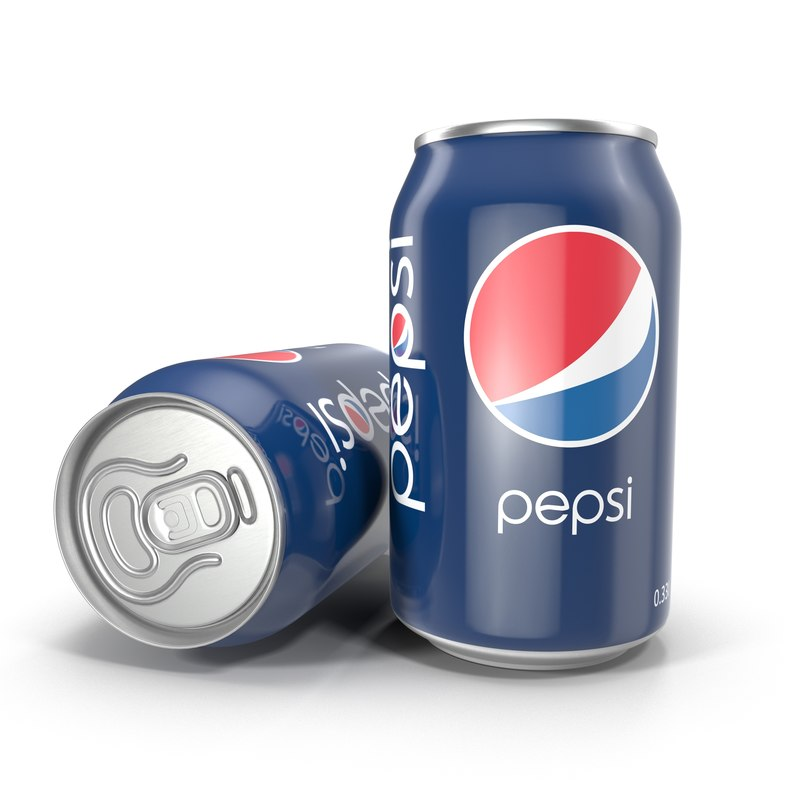can: (385, 118, 685, 685), (48, 328, 395, 665)
